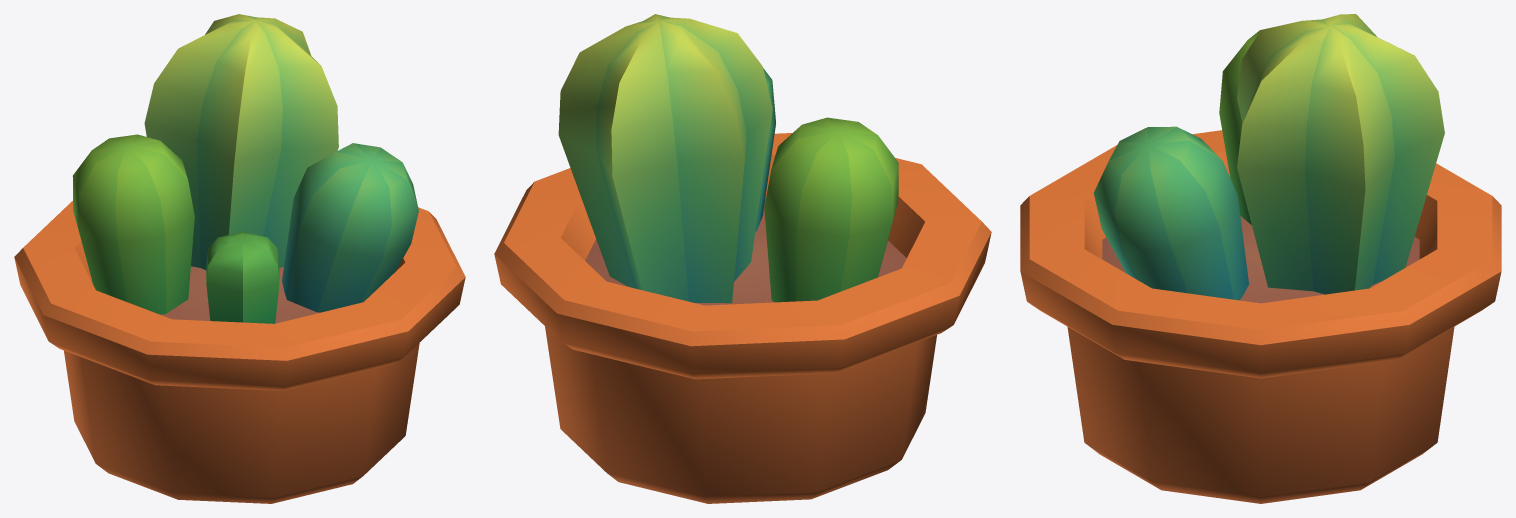
Rendered from cactus_medium_B.obj.
3 views of the same model, side by side, from view 1: azimuth 30°, elevation 25°; view 2: azimuth 150°, elevation 25°; view 3: azimuth 270°, elevation 25° (orthographic). The views are drawn at different scales.
Visible parts, largest first — view 1: cactus_medium_B_Cylinder.001; view 2: cactus_medium_B_Cylinder.001; view 3: cactus_medium_B_Cylinder.001.
Part boxes in pixels (left/top/right/bottom): cactus_medium_B_Cylinder.001: left=14, top=14, right=465, bottom=503; cactus_medium_B_Cylinder.001: left=494, top=14, right=991, bottom=503; cactus_medium_B_Cylinder.001: left=1020, top=14, right=1501, bottom=503.
Bounding box in the file's own units: 0.8799 × 0.8272 × 0.8368.
Materials: 1 (1 with a texture image).
